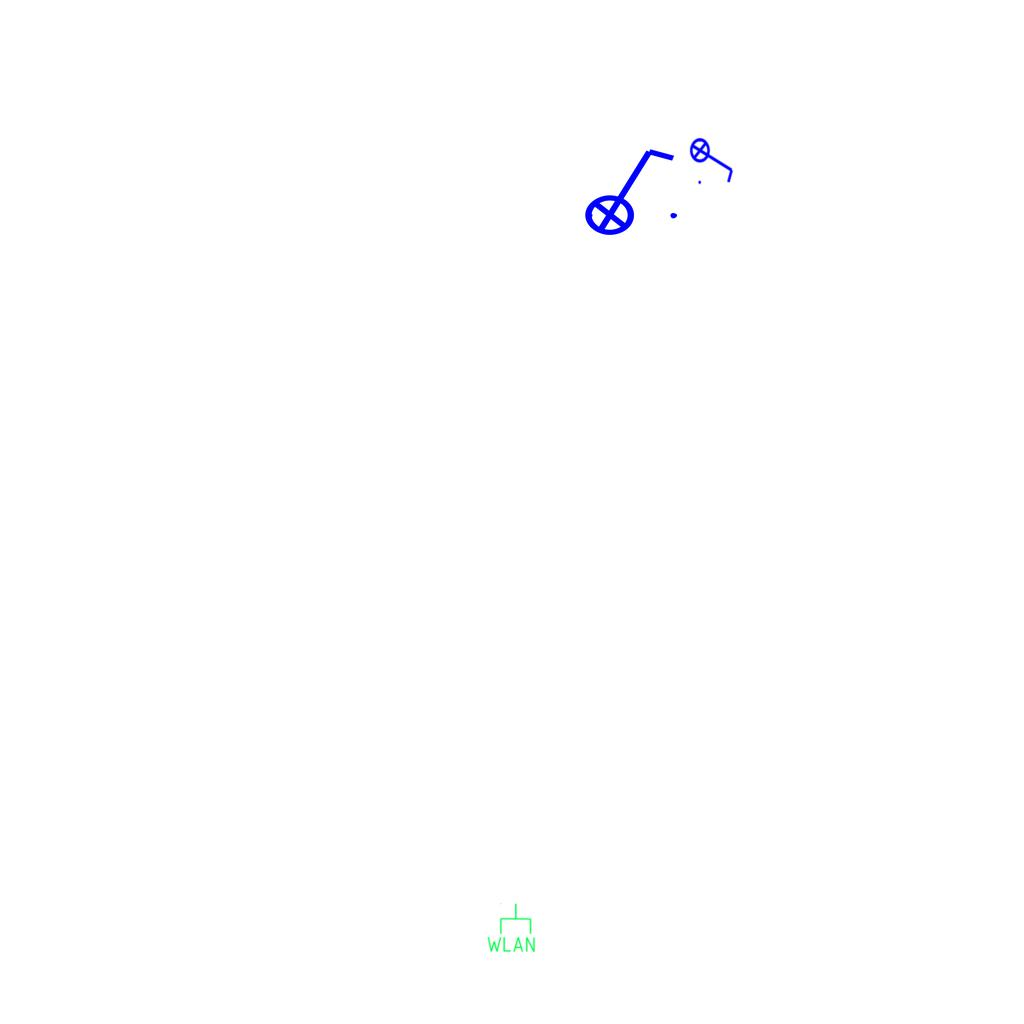Ausschalter_beleuchtet: (571, 141, 683, 237), (689, 131, 737, 187)
WLAN: (485, 902, 537, 954)
